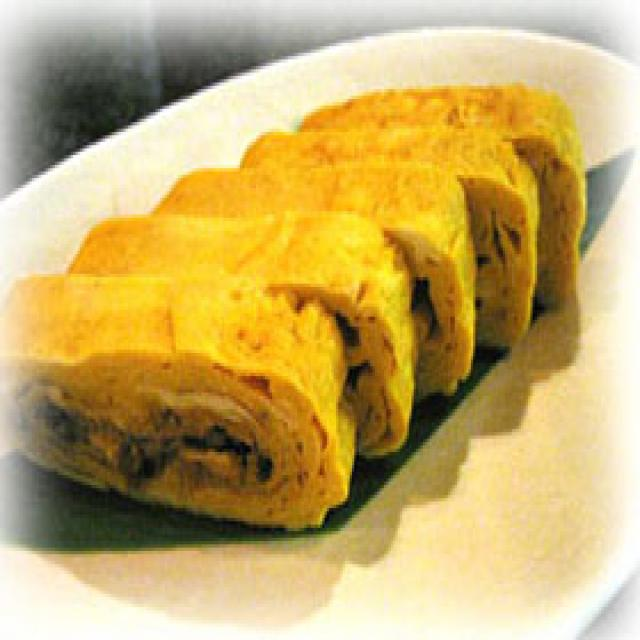鸡蛋料理: (69, 112, 537, 535)
